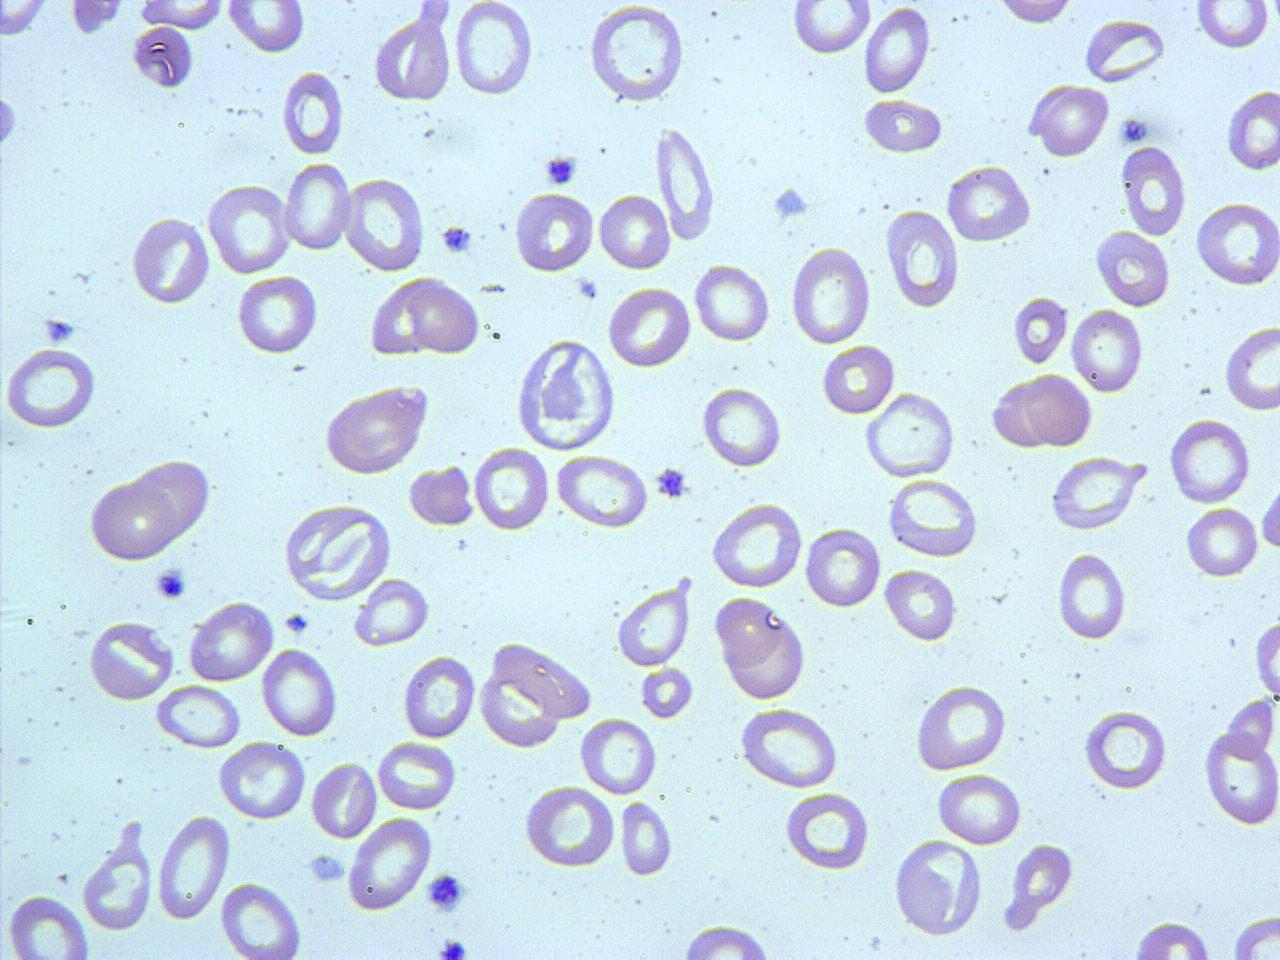Platelets: (424, 869, 468, 915), (152, 564, 189, 603), (653, 465, 691, 502), (771, 184, 811, 219), (306, 851, 348, 885), (542, 153, 580, 189), (1117, 113, 1153, 148), (0, 93, 20, 155), (438, 222, 474, 256), (40, 315, 78, 346), (437, 936, 471, 960), (281, 611, 310, 635)
RBC: (280, 501, 396, 604), (321, 379, 433, 477), (586, 2, 690, 105), (474, 640, 569, 750), (720, 598, 810, 704), (892, 836, 985, 938), (345, 813, 433, 914), (912, 681, 1010, 771), (708, 502, 806, 592), (736, 706, 842, 790), (862, 389, 958, 480), (154, 810, 231, 923), (80, 818, 156, 931), (343, 174, 428, 274), (788, 245, 872, 347), (206, 181, 294, 276), (1, 346, 100, 432), (522, 784, 618, 870), (453, 0, 534, 99), (1202, 724, 1280, 828), (87, 477, 180, 563), (884, 478, 982, 560), (553, 452, 652, 532), (128, 213, 212, 308), (87, 616, 176, 704), (604, 284, 694, 371), (884, 206, 959, 310), (1167, 415, 1253, 506), (1194, 198, 1278, 290), (998, 838, 1075, 938), (783, 788, 872, 874), (214, 740, 307, 821), (186, 598, 274, 684), (1049, 453, 1141, 534), (259, 644, 339, 738), (944, 163, 1035, 244), (235, 272, 319, 357), (511, 188, 594, 274), (1081, 708, 1169, 790), (656, 126, 718, 242), (700, 384, 784, 468), (219, 879, 306, 959), (803, 522, 882, 611), (472, 444, 550, 532), (1070, 305, 1146, 396), (133, 456, 212, 544), (614, 580, 692, 668), (372, 16, 450, 105), (577, 713, 658, 797), (1056, 548, 1128, 642), (692, 260, 772, 345), (401, 651, 476, 741), (862, 4, 932, 97), (1092, 227, 1172, 308), (934, 772, 1022, 846), (1120, 144, 1188, 238), (596, 190, 672, 273), (282, 161, 352, 253), (368, 276, 442, 359), (374, 738, 460, 810), (3, 890, 91, 960), (350, 574, 430, 648), (155, 682, 243, 750), (819, 342, 897, 418), (280, 67, 346, 157), (1082, 14, 1166, 85), (1032, 83, 1108, 160), (882, 566, 956, 644), (1184, 504, 1260, 580), (409, 277, 481, 357), (309, 758, 378, 840), (1222, 322, 1280, 413), (1025, 372, 1095, 449), (862, 96, 946, 156), (1224, 86, 1280, 174), (789, 0, 872, 58), (224, 0, 306, 56), (618, 799, 676, 878), (990, 378, 1052, 452), (406, 462, 475, 528), (130, 24, 195, 91), (672, 922, 786, 959), (1012, 294, 1069, 366), (1194, 1, 1272, 53), (1127, 919, 1219, 959), (638, 664, 696, 720), (134, 0, 228, 32), (1230, 910, 1280, 960), (1252, 615, 1280, 704), (993, 0, 1075, 28), (1, 0, 53, 37)
WBC: (278, 497, 401, 610), (514, 334, 622, 450), (586, 2, 692, 110)
